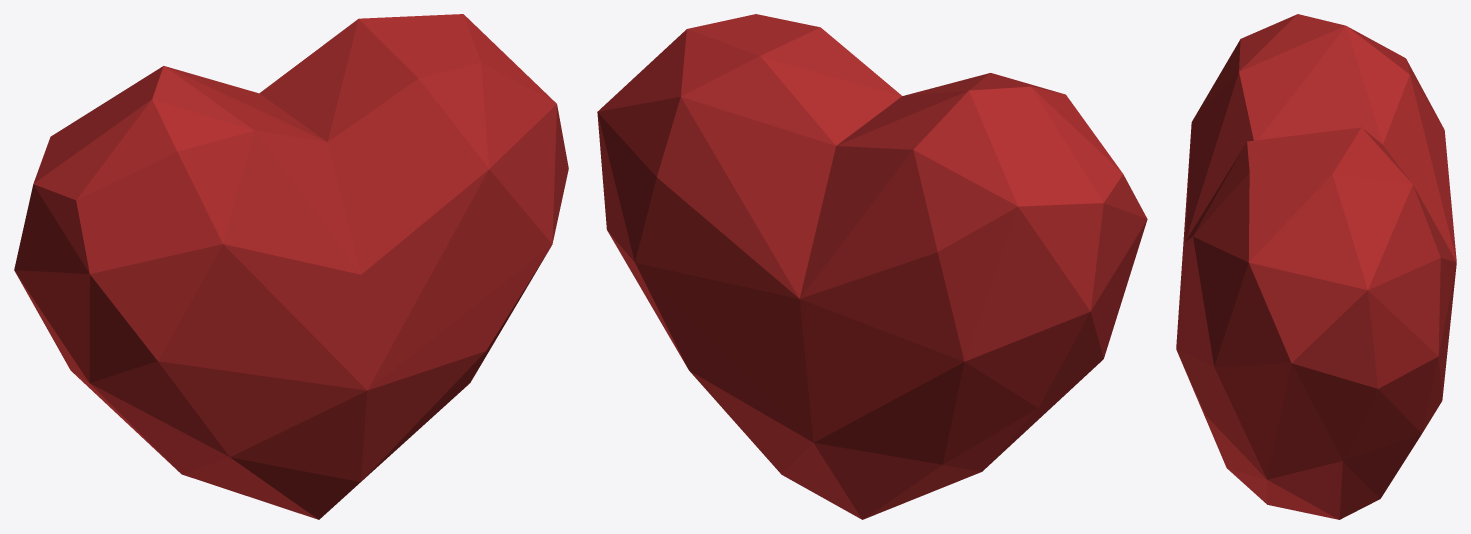
The model's file is Heart.glb.
3 views of the same model, side by side, from view 1: azimuth 30°, elevation 25°; view 2: azimuth 150°, elevation 25°; view 3: azimuth 270°, elevation 25° (orthographic). The views are drawn at different scales.
Parts seen in each view (by area): view 1: Love; view 2: Love; view 3: Love.
Boxes of the visible parts, <box> form: Love: <box>14,14,568,519</box>; Love: <box>597,14,1147,519</box>; Love: <box>1176,14,1456,519</box>.
Bounding box in the file's own units: 0.08 × 0.0675 × 0.0402.
